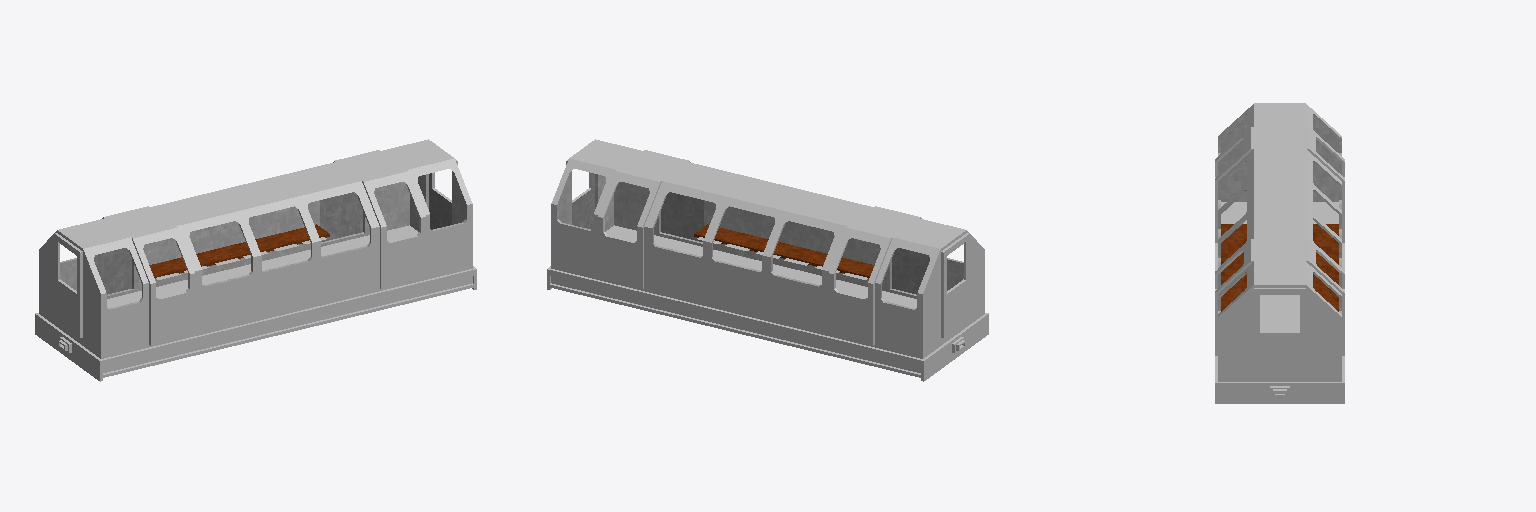
3 views of the same model, side by side, from view 1: azimuth 30°, elevation 25°; view 2: azimuth 150°, elevation 25°; view 3: azimuth 270°, elevation 25° (orthographic).
Visible parts, largest first — view 1: FRAME_0_body_Cube, FRAME_0_body.001_Cube.026, DOOR_1_EXTERNAL_NOTOUCH_CG_leftdoor_TL_1_X_Cube.006, DOOR_2_EXTERNAL_NOTOUCH_CG_leftdoor_TL_-1_X_Cube.002, FRAME_3_Cube.003, FRAME_2_Cube.004, FRAME_1_Cube.005, DOOR_6_CONNECTING_TOGGLE_HIDE_Cube.052, FRAME_end1_Cube.054, DOOR_4_EXTERNAL_NOTOUCH_CG_rightdoor_TL_-1_X_Cube.042, DOOR_3_EXTERNAL_NOTOUCH_CG_rightdoor_TL_1_X_Cube.047, DOOR_5_CONNECTING_TOGGLE_HIDE_Cube.019 (+1 smaller); view 2: FRAME_0_body_Cube, FRAME_0_body.001_Cube.026, DOOR_3_EXTERNAL_NOTOUCH_CG_rightdoor_TL_1_X_Cube.047, DOOR_4_EXTERNAL_NOTOUCH_CG_rightdoor_TL_-1_X_Cube.042, FRAME_3_Cube.003, FRAME_2_Cube.004, FRAME_1_Cube.005, DOOR_6_CONNECTING_TOGGLE_HIDE_Cube.052, FRAME_end1_Cube.054, DOOR_2_EXTERNAL_NOTOUCH_CG_leftdoor_TL_-1_X_Cube.002, DOOR_1_EXTERNAL_NOTOUCH_CG_leftdoor_TL_1_X_Cube.006, DOOR_5_CONNECTING_TOGGLE_HIDE_Cube.019 (+1 smaller); view 3: FRAME_0_body_Cube, FRAME_0_body.001_Cube.026, DOOR_5_CONNECTING_TOGGLE_HIDE_Cube.019, FRAME_end2_Cube.001, FRAME_2_Cube.004, DOOR_4_EXTERNAL_NOTOUCH_CG_rightdoor_TL_-1_X_Cube.042, DOOR_2_EXTERNAL_NOTOUCH_CG_leftdoor_TL_-1_X_Cube.002, DOOR_3_EXTERNAL_NOTOUCH_CG_rightdoor_TL_1_X_Cube.047, DOOR_1_EXTERNAL_NOTOUCH_CG_leftdoor_TL_1_X_Cube.006, FRAME_3_Cube.003, FRAME_1_Cube.005.
Boxes of the visible parts, box(x1,y1,x2,y2) form: FRAME_0_body_Cube: box(39, 139, 472, 358); FRAME_0_body.001_Cube.026: box(60, 171, 466, 309); DOOR_1_EXTERNAL_NOTOUCH_CG_leftdoor_TL_1_X_Cube.006: box(131, 226, 195, 345); DOOR_2_EXTERNAL_NOTOUCH_CG_leftdoor_TL_-1_X_Cube.002: box(362, 170, 425, 289); FRAME_3_Cube.003: box(281, 230, 449, 319); FRAME_2_Cube.004: box(174, 257, 341, 345); FRAME_1_Cube.005: box(107, 283, 234, 371); DOOR_6_CONNECTING_TOGGLE_HIDE_Cube.052: box(54, 233, 82, 337); FRAME_end1_Cube.054: box(35, 313, 126, 381); DOOR_4_EXTERNAL_NOTOUCH_CG_rightdoor_TL_-1_X_Cube.042: box(320, 150, 379, 241); DOOR_3_EXTERNAL_NOTOUCH_CG_rightdoor_TL_1_X_Cube.047: box(94, 206, 148, 294); DOOR_5_CONNECTING_TOGGLE_HIDE_Cube.019: box(429, 159, 457, 229); FRAME_0_body_Cube: box(551, 139, 984, 358); FRAME_0_body.001_Cube.026: box(557, 171, 963, 309); DOOR_3_EXTERNAL_NOTOUCH_CG_rightdoor_TL_1_X_Cube.047: box(828, 226, 892, 345); DOOR_4_EXTERNAL_NOTOUCH_CG_rightdoor_TL_-1_X_Cube.042: box(598, 170, 661, 289); FRAME_3_Cube.003: box(574, 230, 742, 319); FRAME_2_Cube.004: box(682, 257, 849, 345); FRAME_1_Cube.005: box(789, 283, 916, 371); DOOR_6_CONNECTING_TOGGLE_HIDE_Cube.052: box(941, 233, 969, 337); FRAME_end1_Cube.054: box(897, 313, 988, 381); DOOR_2_EXTERNAL_NOTOUCH_CG_leftdoor_TL_-1_X_Cube.002: box(644, 150, 703, 241); DOOR_1_EXTERNAL_NOTOUCH_CG_leftdoor_TL_1_X_Cube.006: box(875, 206, 929, 294); DOOR_5_CONNECTING_TOGGLE_HIDE_Cube.019: box(566, 159, 594, 229); FRAME_0_body_Cube: box(1218, 103, 1341, 381); FRAME_0_body.001_Cube.026: box(1218, 114, 1341, 313); DOOR_5_CONNECTING_TOGGLE_HIDE_Cube.019: box(1254, 288, 1305, 374); FRAME_end2_Cube.001: box(1215, 370, 1344, 403); FRAME_2_Cube.004: box(1215, 265, 1344, 316); DOOR_4_EXTERNAL_NOTOUCH_CG_rightdoor_TL_-1_X_Cube.042: box(1306, 239, 1344, 355); DOOR_2_EXTERNAL_NOTOUCH_CG_leftdoor_TL_-1_X_Cube.002: box(1215, 239, 1253, 355); DOOR_3_EXTERNAL_NOTOUCH_CG_rightdoor_TL_1_X_Cube.047: box(1306, 127, 1344, 242); DOOR_1_EXTERNAL_NOTOUCH_CG_leftdoor_TL_1_X_Cube.006: box(1215, 127, 1253, 242); FRAME_3_Cube.003: box(1215, 317, 1344, 369); FRAME_1_Cube.005: box(1215, 212, 1344, 264).
Bounding box in the file's own units: 8.62 × 2.62 × 2.5.
6 materials, 2 textured.